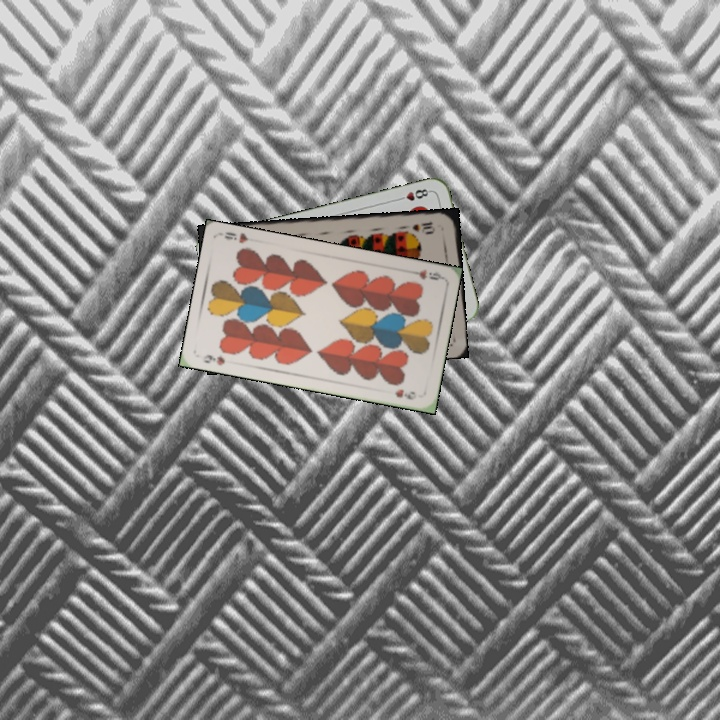H8: (393, 185, 433, 203)
H9: (404, 265, 444, 283), (199, 350, 227, 368)
S10: (408, 218, 438, 234)
